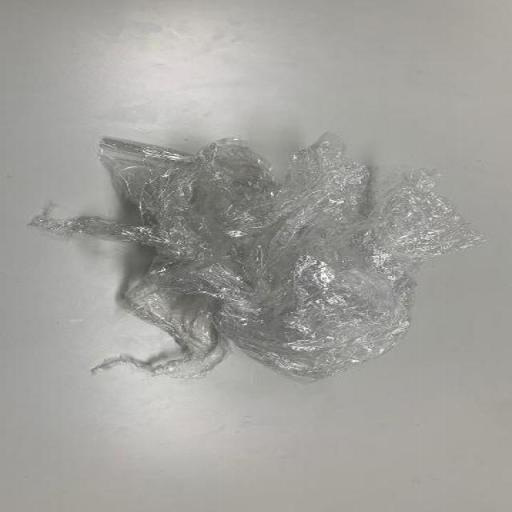plastic-bag: (24, 129, 498, 378)
